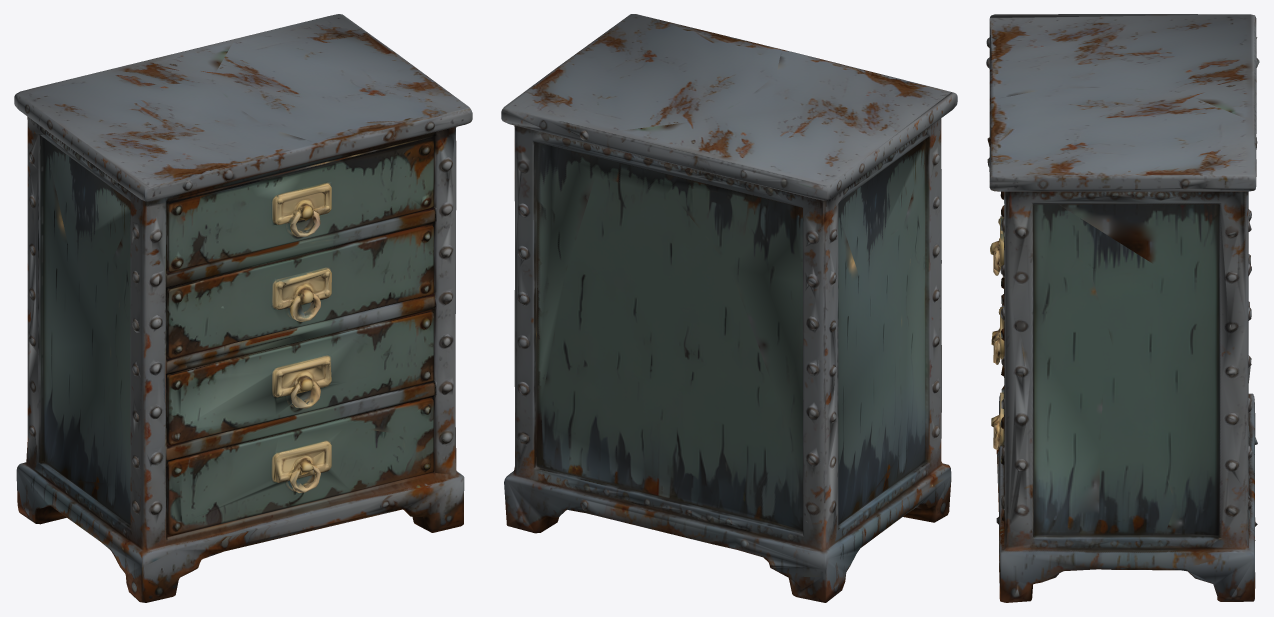
File: lhi_filing_cabinet.glb
3 renders of one model, left to right at view 1: azimuth 30°, elevation 25°; view 2: azimuth 150°, elevation 25°; view 3: azimuth 270°, elevation 25°, orthographic. The views are drawn at different scales.
Visible parts, largest first — view 1: material; view 2: material; view 3: material.
Part boxes in pixels (box(x1,y1,x2,y2)): material: box(14, 14, 472, 602); material: box(501, 14, 957, 602); material: box(986, 14, 1259, 602).
Bounding box in the file's own units: 0.7041 × 0.8591 × 0.4959.
Materials: 1 (1 with a texture image).
